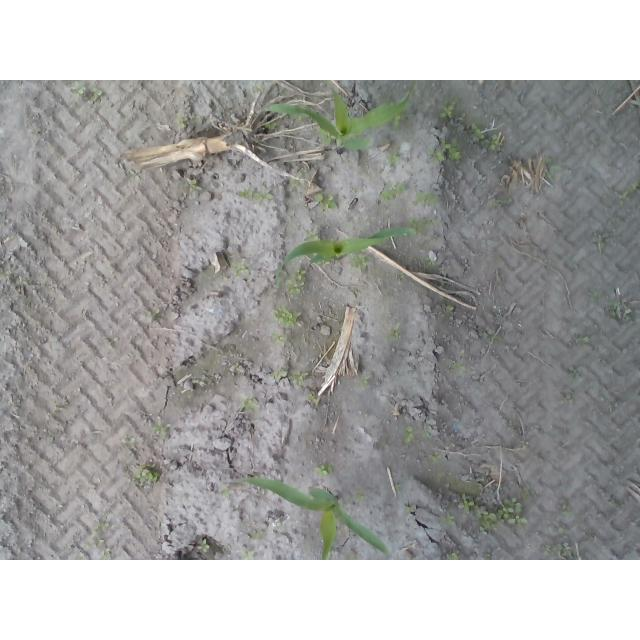Maize: (225, 474, 392, 560), (255, 81, 418, 152), (275, 226, 417, 288)
Weeds: (475, 496, 529, 530), (469, 122, 504, 151), (273, 368, 308, 393), (70, 81, 102, 103), (542, 541, 579, 560), (285, 268, 307, 296), (380, 182, 409, 203), (271, 305, 297, 328), (617, 182, 640, 207), (433, 142, 461, 162), (133, 466, 161, 483), (239, 189, 273, 203), (608, 303, 633, 322), (313, 191, 338, 209), (566, 367, 583, 384), (438, 101, 454, 119), (416, 191, 440, 203), (313, 463, 332, 476), (153, 425, 169, 440), (271, 330, 288, 344), (240, 398, 257, 412), (305, 393, 320, 408), (386, 151, 401, 166), (461, 496, 475, 512), (404, 426, 417, 443), (188, 177, 203, 191), (232, 264, 248, 276), (198, 538, 210, 553), (101, 544, 111, 560), (241, 550, 257, 560), (442, 513, 455, 525), (355, 489, 365, 503), (576, 336, 591, 345), (97, 521, 109, 532), (389, 328, 399, 341), (445, 552, 459, 561), (430, 453, 442, 461), (360, 376, 369, 384)
